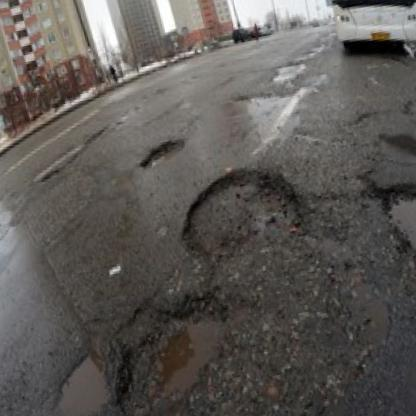pothole: (169, 154, 313, 275), (127, 288, 248, 414), (48, 342, 120, 416), (377, 173, 416, 271), (135, 133, 191, 171), (40, 167, 63, 182)
